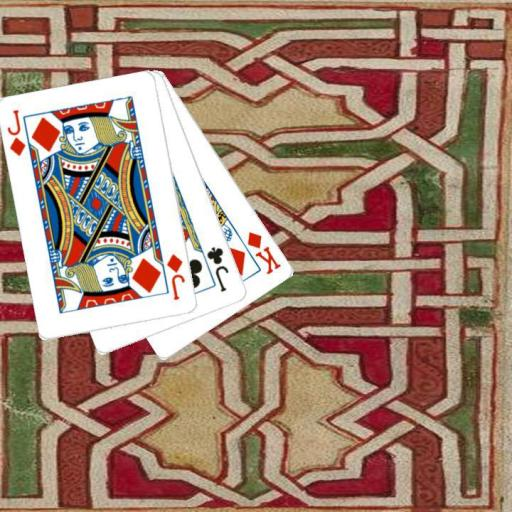JC: (203, 244, 231, 294)
JD: (4, 107, 28, 158), (164, 251, 187, 302)
KD: (244, 227, 283, 276)
